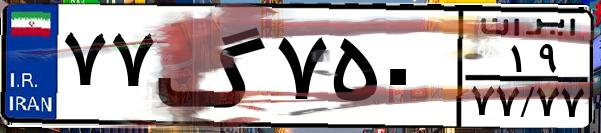0: (385, 28, 445, 110)
1: (508, 27, 537, 80)
5: (330, 28, 385, 110)
7: (270, 28, 330, 110), (57, 26, 110, 100), (110, 28, 156, 98), (560, 70, 590, 125), (470, 70, 495, 125), (495, 70, 520, 125), (535, 70, 560, 125)
9: (537, 27, 568, 80)
گ: (156, 12, 270, 120)
